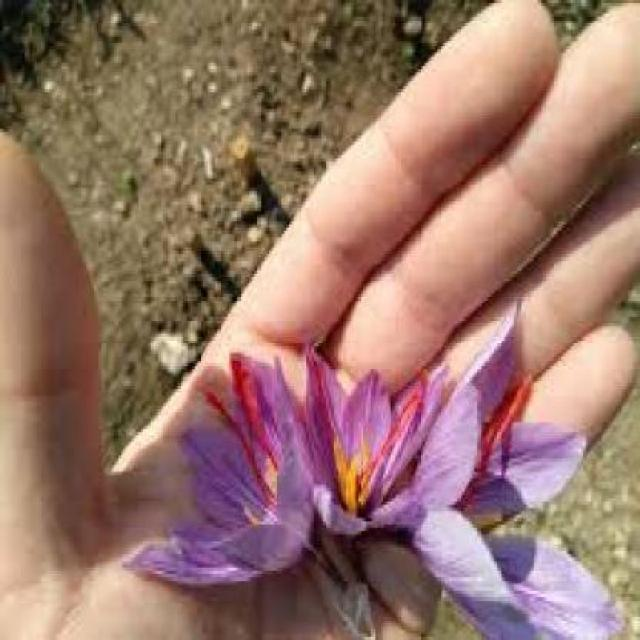Flower: (392, 306, 606, 640), (128, 346, 324, 592), (305, 355, 452, 550)
stigma: (199, 388, 272, 498), (472, 376, 535, 499), (228, 354, 276, 466), (372, 389, 422, 473)
